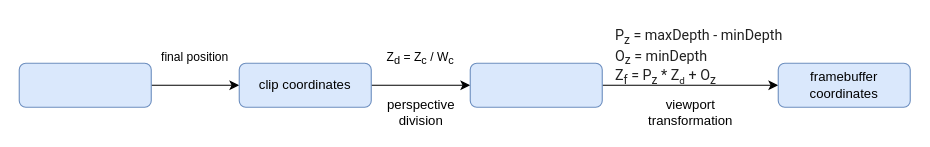
Some shapes in this 930 by 147 pixel diagram are drawn without their labels. Each missing label, with the centre of its shape:
normalized device coordinates: the point at 535,84
pre-rasterization shader stage: the point at 84,84
